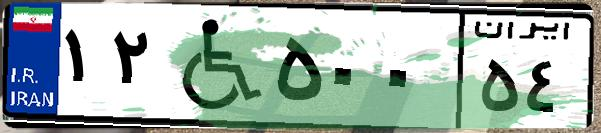0: (385, 28, 445, 110), (330, 28, 385, 110)
1: (57, 26, 110, 100)
2: (110, 28, 158, 98)
4: (525, 38, 570, 115)
5: (270, 28, 330, 110), (475, 38, 525, 113)
ژ (معلولین و جانبازان): (158, 12, 270, 120)
